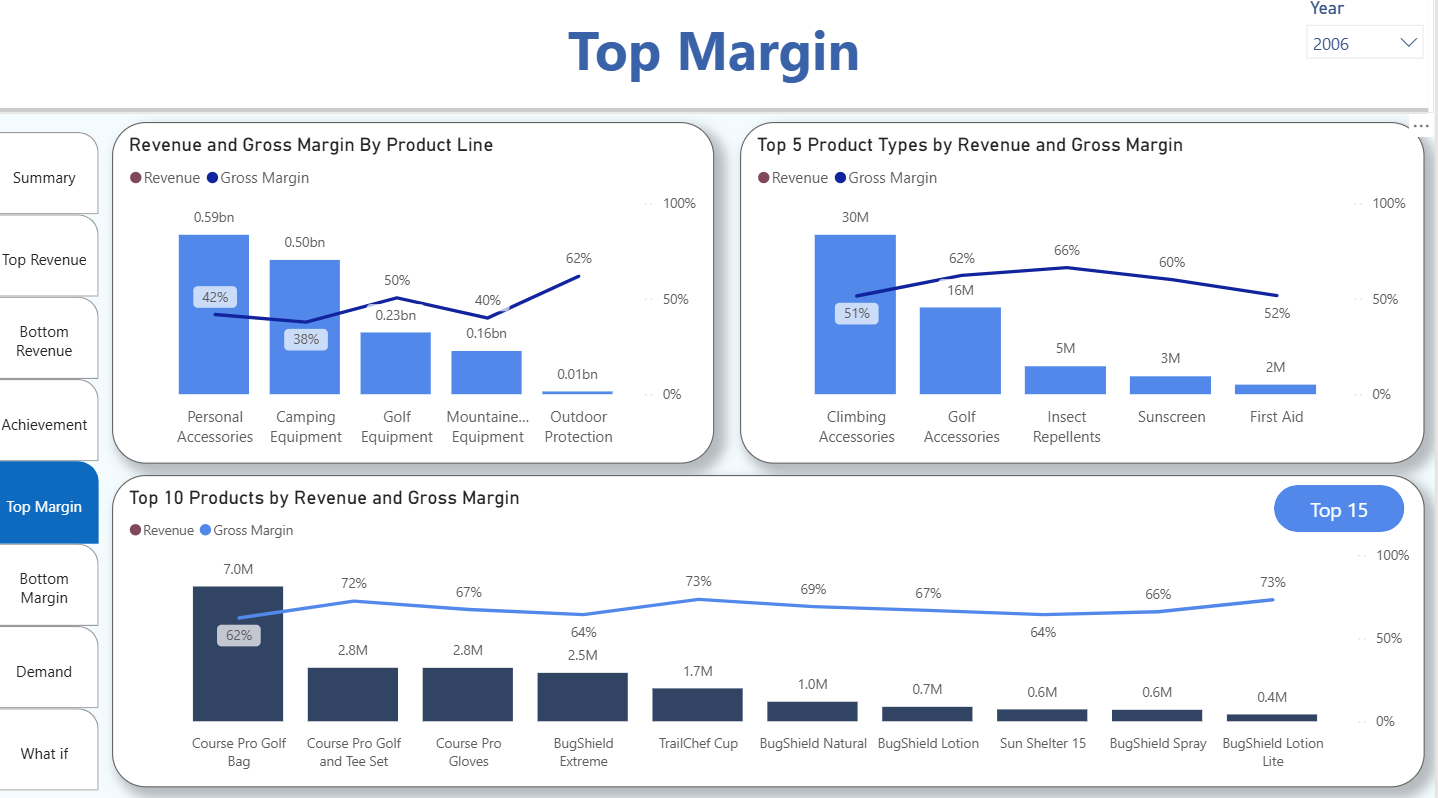

What the dashboard file says about the page in this screenshot:
{"tool":"powerbi","page":{"name":"Top  Margin","canvas":[1280,720],"ordinal":4},"visuals":[{"type":"pageNavigator","box":[4,125,91.4,587.6],"z":0},{"type":"lineClusteredColumnComboChart","title":"Revenue and Gross Margin By Product Line","fields":{"Y":["Sum(Marketing Sales.Revenue)"],"Y2":["Marketing Sales.Gross Margin"],"Category":["Marketing Sales.Product line"]},"box":[107.3,115.8,534.3,302.7],"z":1000},{"type":"lineClusteredColumnComboChart","title":"Top 5 Product Types by Revenue and Gross Margin","fields":{"Y":["Sum(Marketing Sales.Revenue)"],"Category":["Marketing Sales.Product type"],"Y2":["Marketing Sales.Gross Margin"]},"box":[664.5,115.8,606.6,302.7],"z":2000},{"type":"lineClusteredColumnComboChart","title":"Top 10 Products by Revenue and Gross Margin","fields":{"Category":["Marketing Sales.Product"],"Y":["Sum(Marketing Sales.Revenue)"],"Y2":["Marketing Sales.Gross Margin"]},"box":[107.3,429.3,1163.8,277.4],"z":3000},{"type":"shape","box":[0,0,1279.6,108.5],"z":5000},{"type":"shape","box":[1137.5,438.3,115.6,41.7],"z":6000},{"type":"textbox","box":[267.7,13.3,746.5,82],"z":10000},{"type":"slicer","fields":{"Values":["Marketing Sales.Date.Variation.Date Hierarchy.Year"]},"box":[1156,0,124,96.1],"z":11000}]}

Visuals, with their boxes on the page's 1280x720 design canvas (x1, y1, x2, y2). These are canvas units, not pixel positions in the 1438x798 screenshot, which may show the page scaled, cropped or inside an application window:
pageNavigator: bbox=(4, 125, 95, 713)
"Revenue and Gross Margin By Product Line" lineClusteredColumnComboChart: bbox=(107, 116, 642, 418)
"Top 5 Product Types by Revenue and Gross Margin" lineClusteredColumnComboChart: bbox=(664, 116, 1271, 418)
"Top 10 Products by Revenue and Gross Margin" lineClusteredColumnComboChart: bbox=(107, 429, 1271, 707)
shape: bbox=(0, 0, 1280, 108)
shape: bbox=(1138, 438, 1253, 480)
textbox: bbox=(268, 13, 1014, 95)
slicer - Marketing Sales.Date.Variation.Date Hierarchy.Year: bbox=(1156, 0, 1280, 96)
